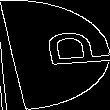P_W: (6, 34, 104, 76)
